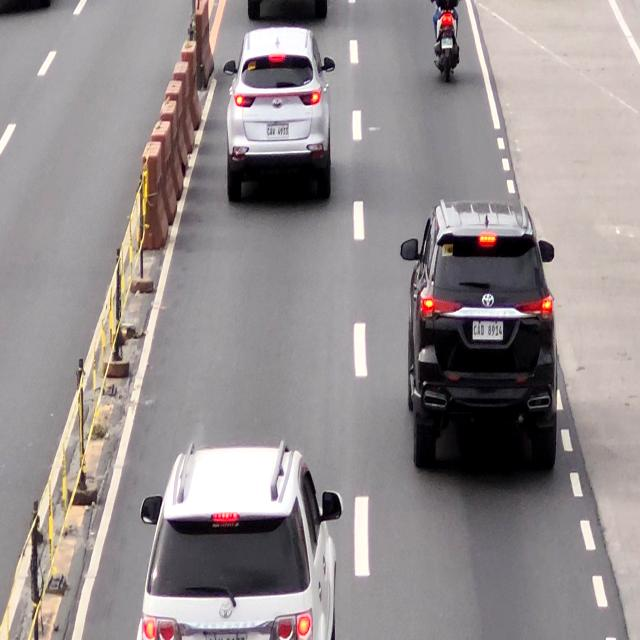Car: (399, 199, 558, 475), (135, 442, 343, 640), (224, 28, 336, 202)
License-Plate: (472, 320, 503, 340), (266, 124, 290, 140), (440, 38, 452, 48)
Motorcycle: (434, 0, 461, 83)
